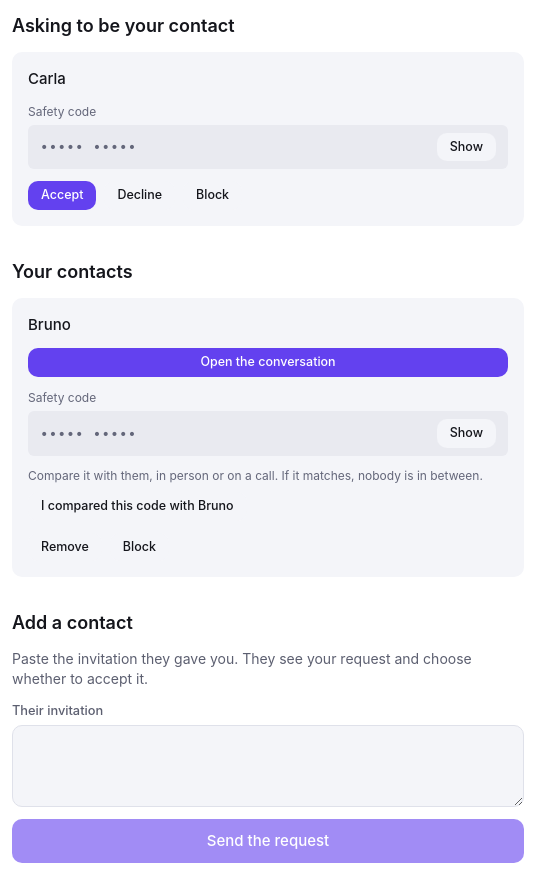
Test: a pasted invitation sends a request and says to whom
In the text box labelled "Their invitation": (268, 766) top-left (12, 724), bottom-right (524, 806), type "convia1fabio"
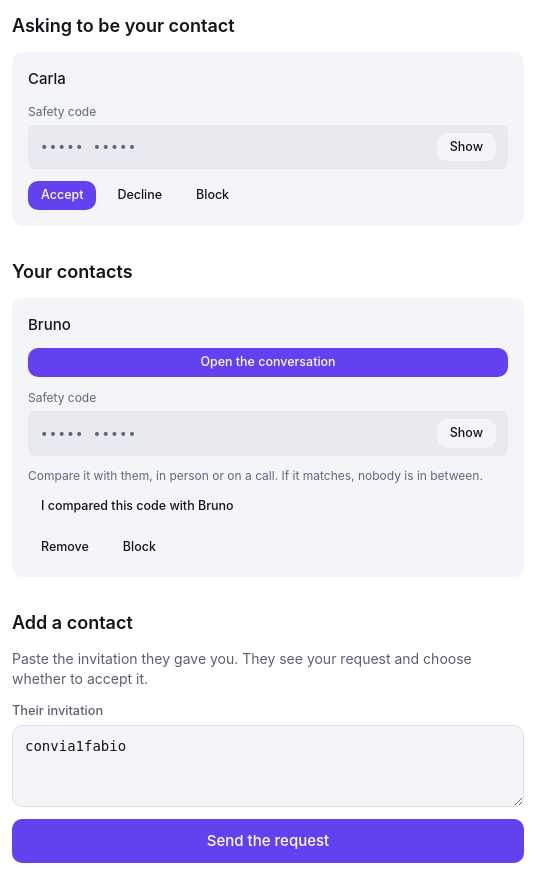
Click the button "Send the request": (268, 841) top-left (12, 818), bottom-right (524, 863)
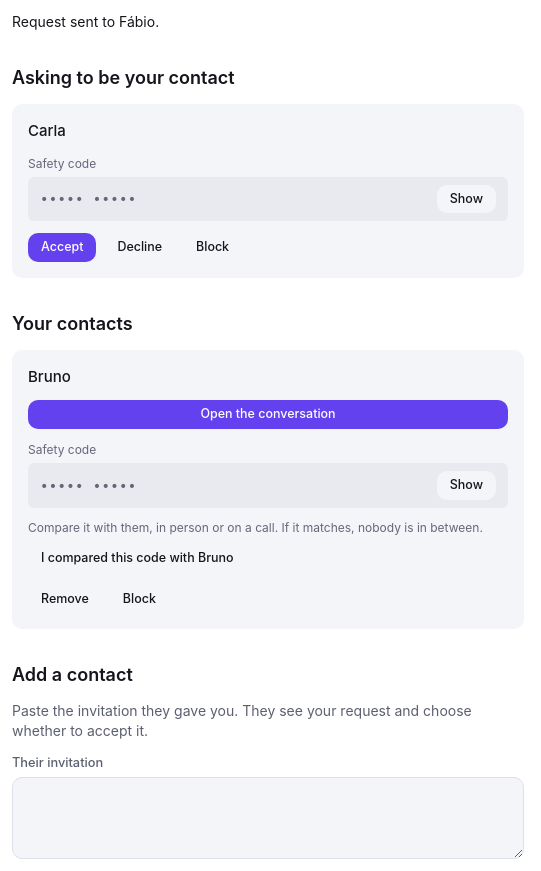
Check: the text "Request sent to Fábio." is shown, box top-left (12, 13), bottom-right (159, 30)
